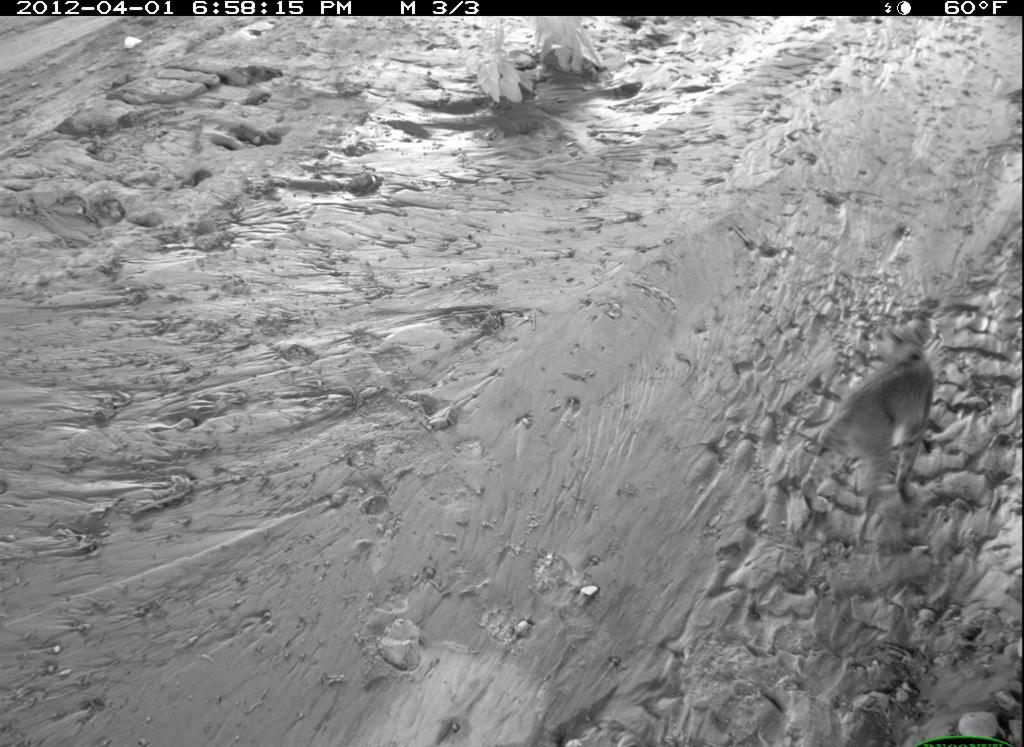bobcat: (786, 304, 949, 529)
